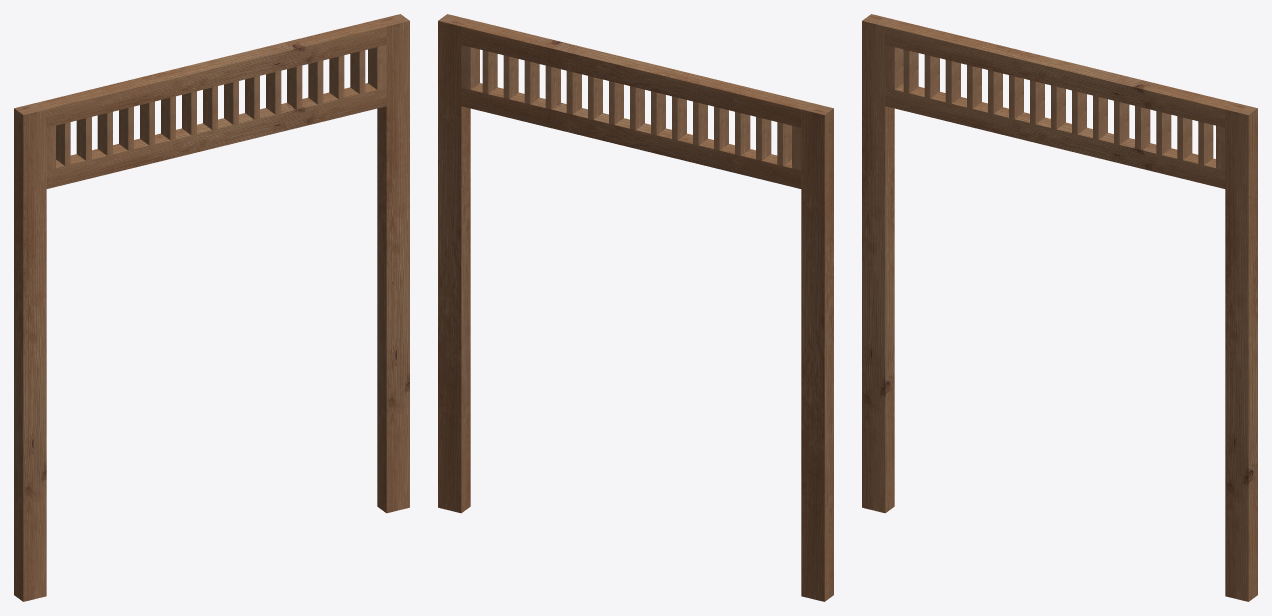
Rendered from SM_Baeryeom_Door_B1.fbx.
3 views of the same model, side by side, from view 1: azimuth 30°, elevation 25°; view 2: azimuth 150°, elevation 25°; view 3: azimuth 330°, elevation 25° (orthographic).
Parts seen in each view (by area): view 1: SM_Baeryeom_Door_B1; view 2: SM_Baeryeom_Door_B1; view 3: SM_Baeryeom_Door_B1.
Part boxes in pixels (left/top/right/bottom): SM_Baeryeom_Door_B1: left=14, top=14, right=409, bottom=601; SM_Baeryeom_Door_B1: left=438, top=14, right=833, bottom=601; SM_Baeryeom_Door_B1: left=862, top=14, right=1257, bottom=601.
Bounding box in the file's own units: 198 × 239 × 8.33.
